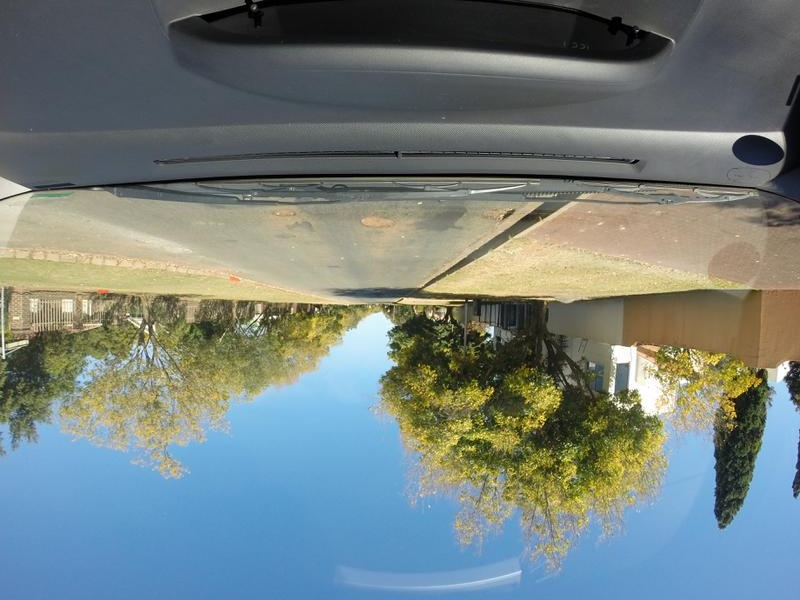pothole: (348, 213, 396, 232), (482, 204, 515, 221), (266, 205, 298, 222)
